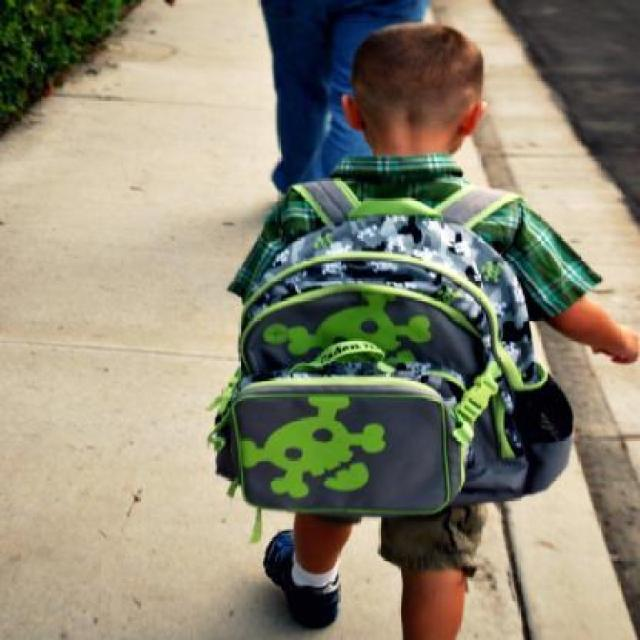backpack: (207, 177, 578, 521)
